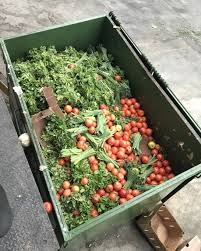kitchen_waste: (39, 50, 123, 103), (156, 160, 171, 177), (57, 154, 74, 167), (71, 135, 89, 147), (43, 198, 55, 214), (143, 171, 157, 184), (132, 101, 145, 115), (82, 116, 95, 128), (139, 153, 152, 164), (105, 160, 117, 171), (61, 179, 74, 189), (90, 192, 103, 202), (105, 136, 118, 146), (63, 104, 74, 115), (146, 140, 157, 151), (87, 125, 97, 137), (86, 153, 97, 163), (103, 181, 113, 192), (113, 179, 123, 190), (118, 187, 130, 196), (121, 98, 130, 110), (135, 120, 145, 130), (110, 146, 121, 155), (62, 187, 72, 196), (120, 138, 130, 147), (90, 161, 98, 172), (111, 167, 120, 176), (73, 105, 80, 116), (114, 74, 122, 81)
plastic: (136, 195, 187, 248)
